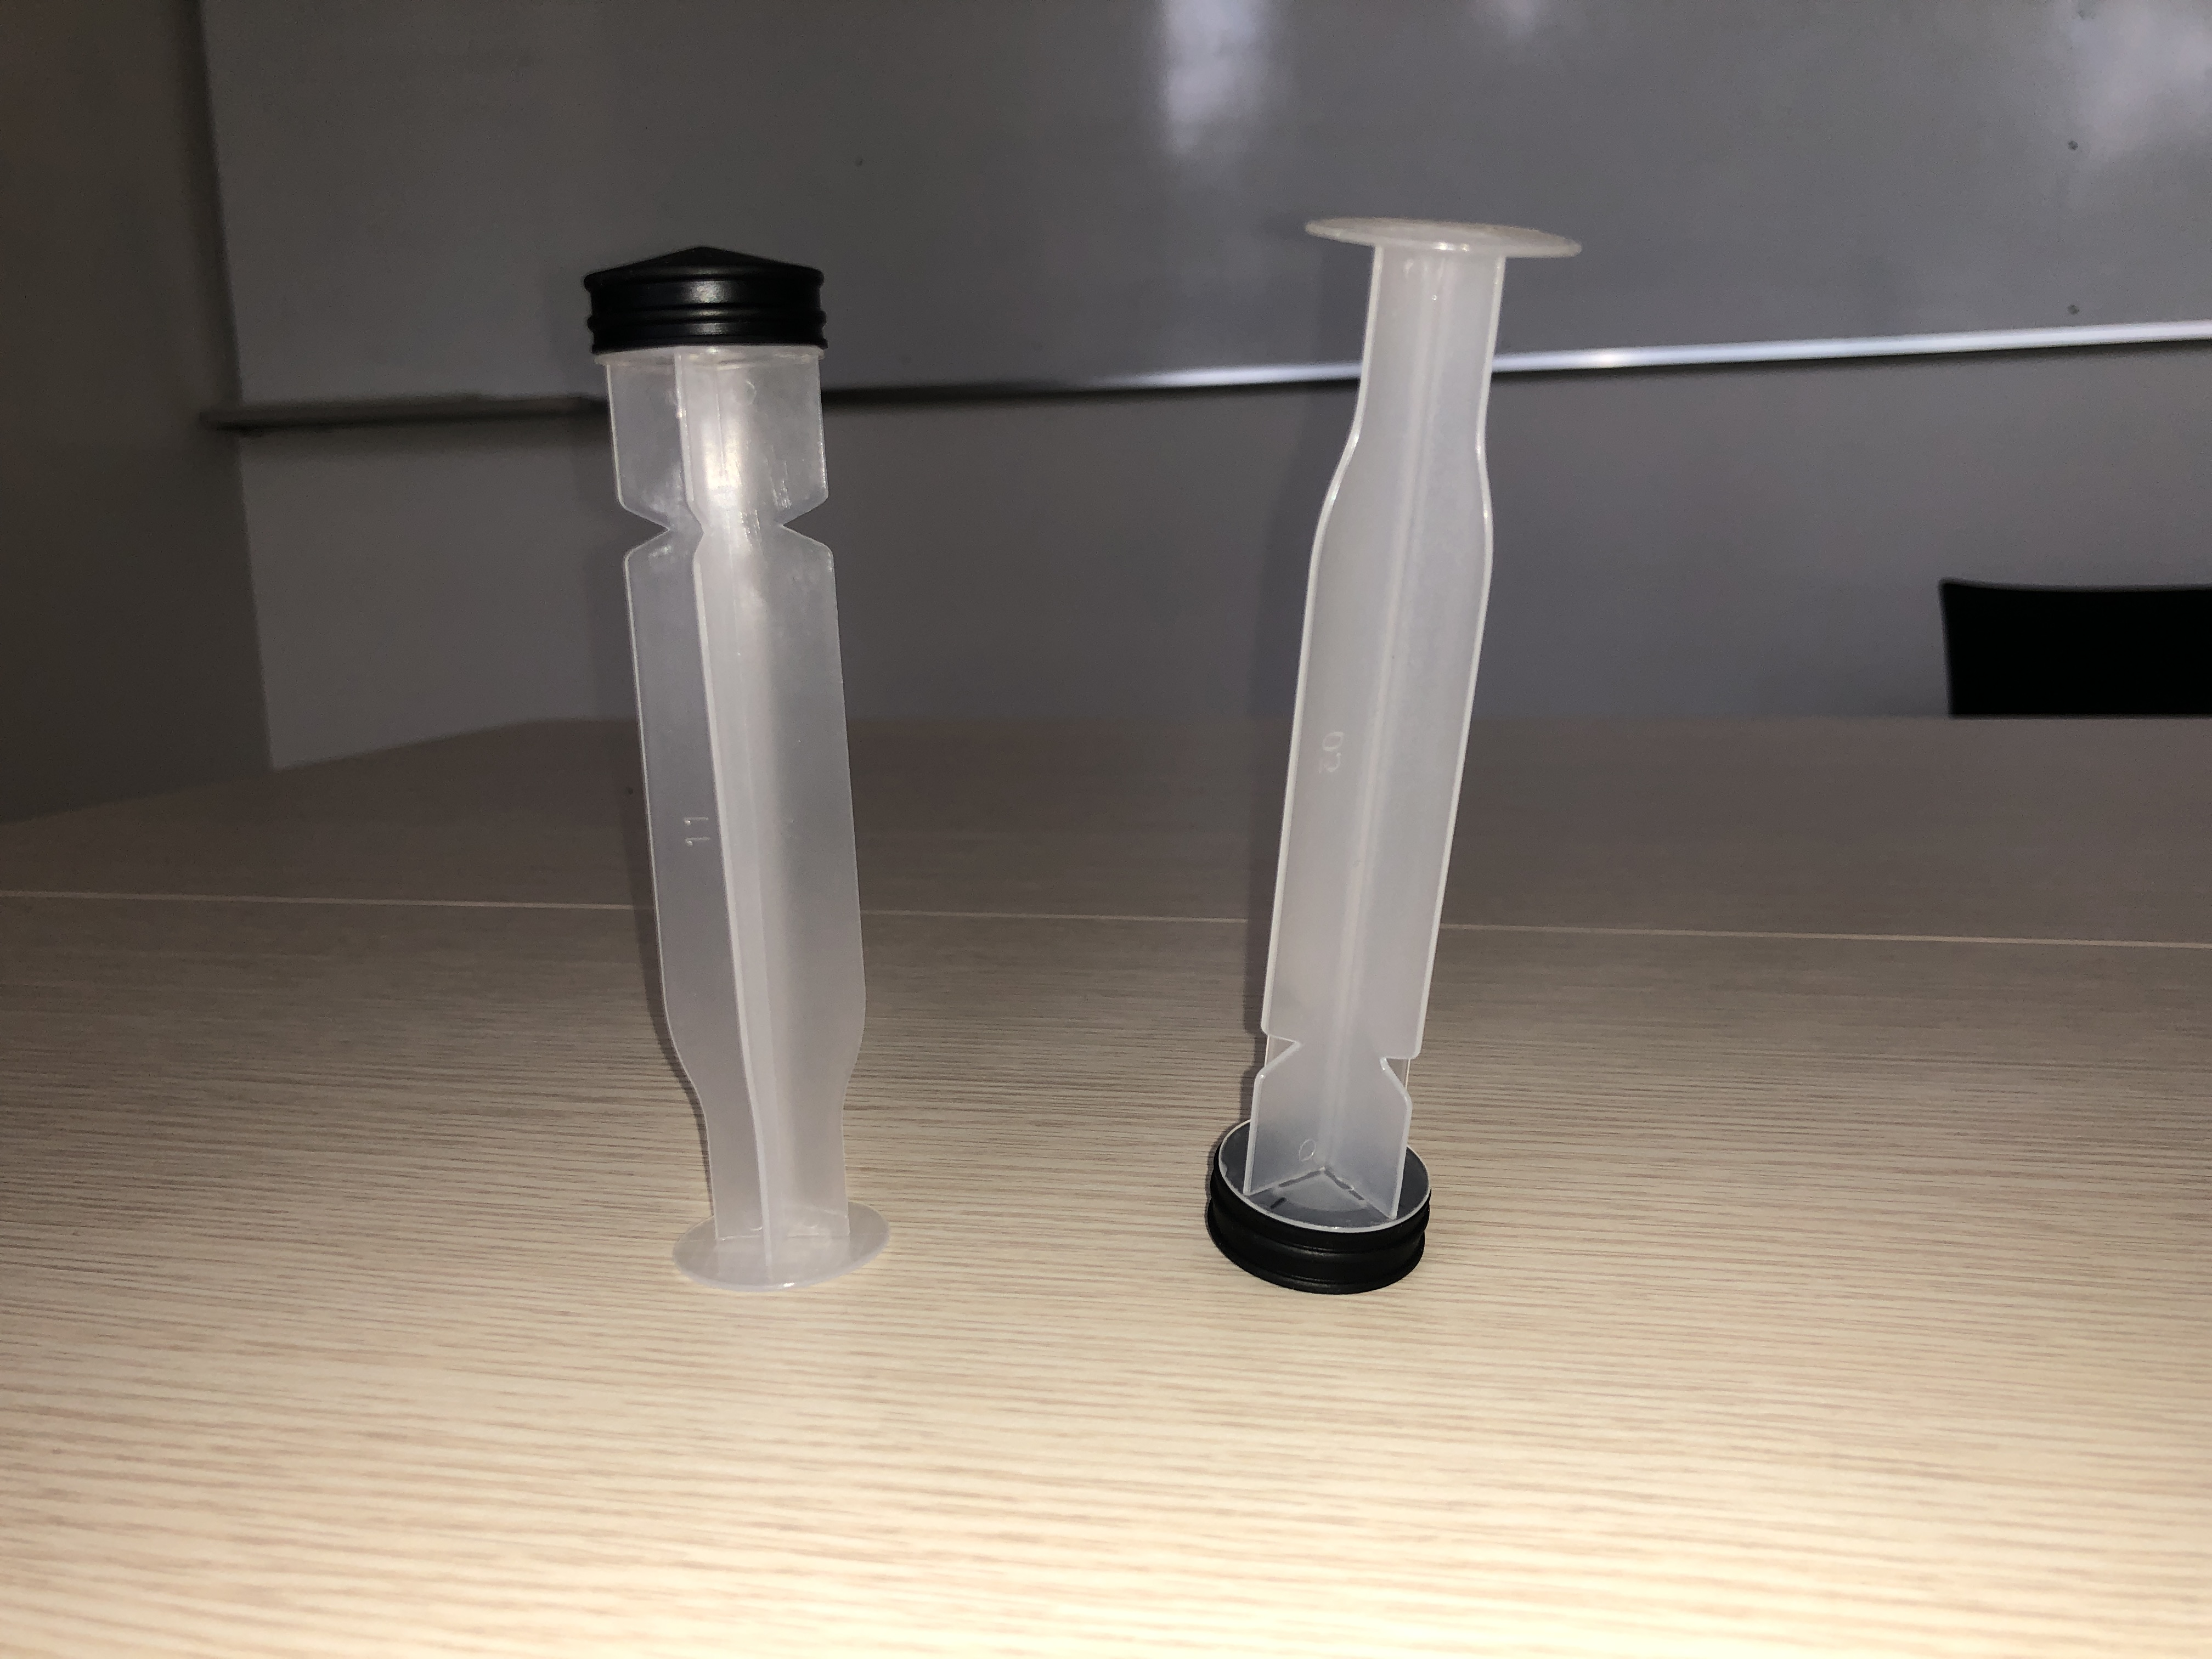plunger: (1197, 204, 1592, 1309), (575, 242, 920, 1297)
